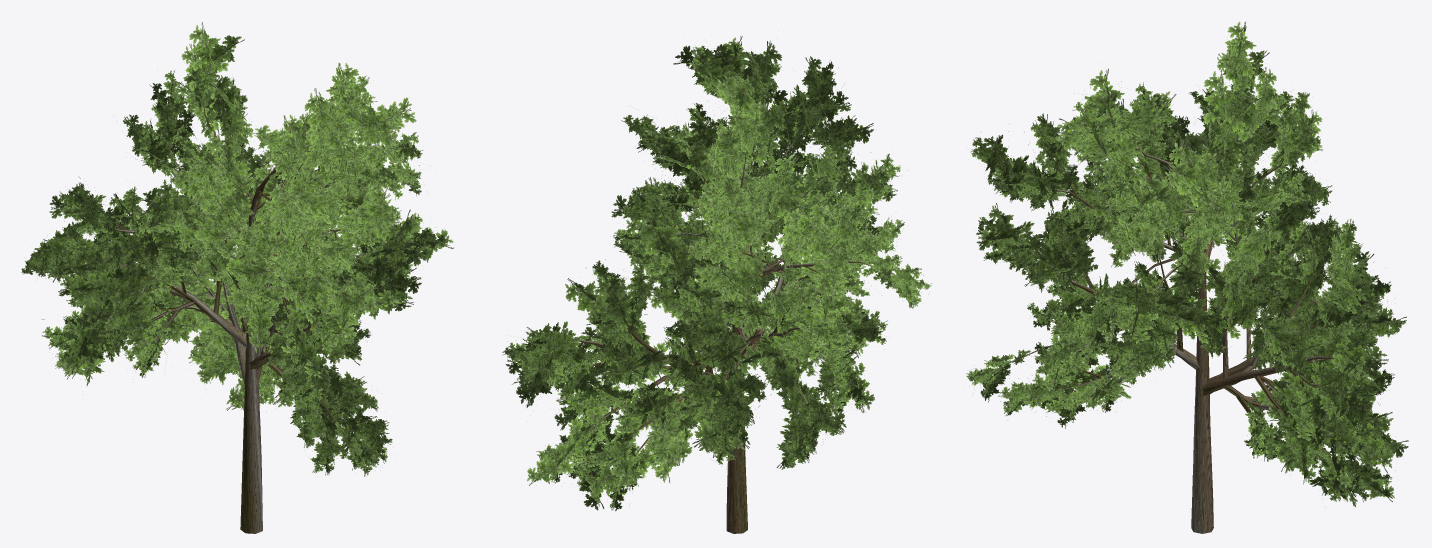
File: ez-oak-medium.glb
3 views of the same model, side by side, from view 1: azimuth 30°, elevation 25°; view 2: azimuth 150°, elevation 25°; view 3: azimuth 270°, elevation 25° (orthographic). The views are drawn at different scales.
Parts seen in each view (by area): view 1: mid, near; view 2: mid, near; view 3: mid, near.
Part boxes in pixels (<box>): mid: <box>26,22,453,533</box>; near: <box>21,37,446,533</box>; mid: <box>505,36,923,533</box>; near: <box>502,47,931,533</box>; mid: <box>972,21,1408,532</box>; near: <box>966,35,1395,533</box>.
Size of the model in its own units: 10.24 by 12.37 by 10.26.
1 material, 1 textured.
